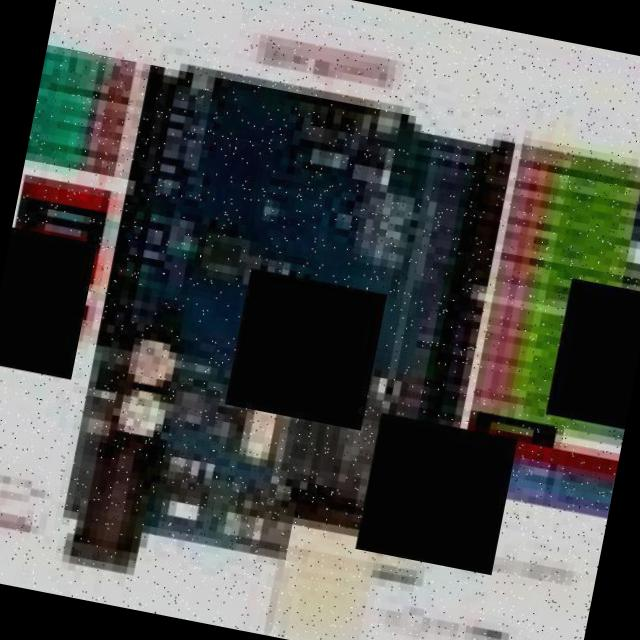arduino: (56, 61, 517, 626)
